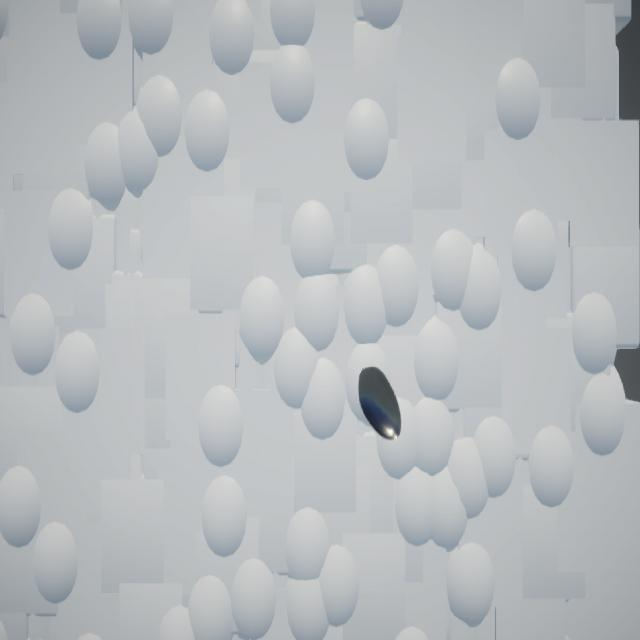top_spoon: (359, 367, 402, 442)
